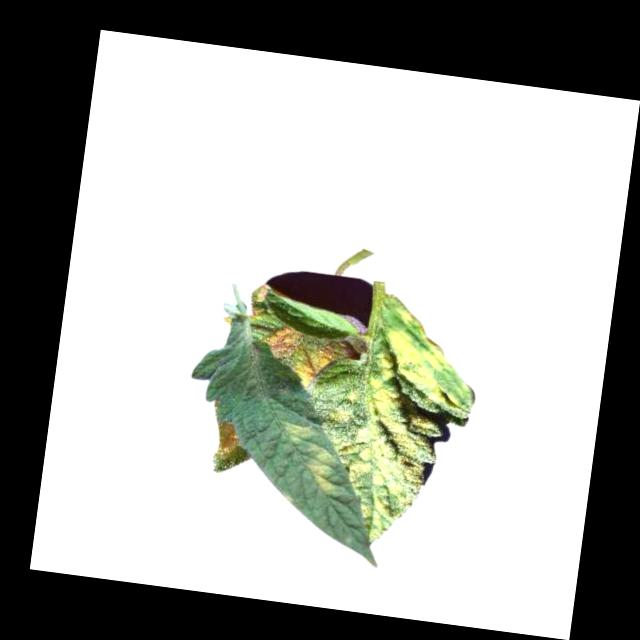Leaf_Mold: (316, 286, 483, 551), (262, 321, 363, 392), (306, 451, 340, 499), (275, 420, 326, 447), (213, 421, 245, 461)
